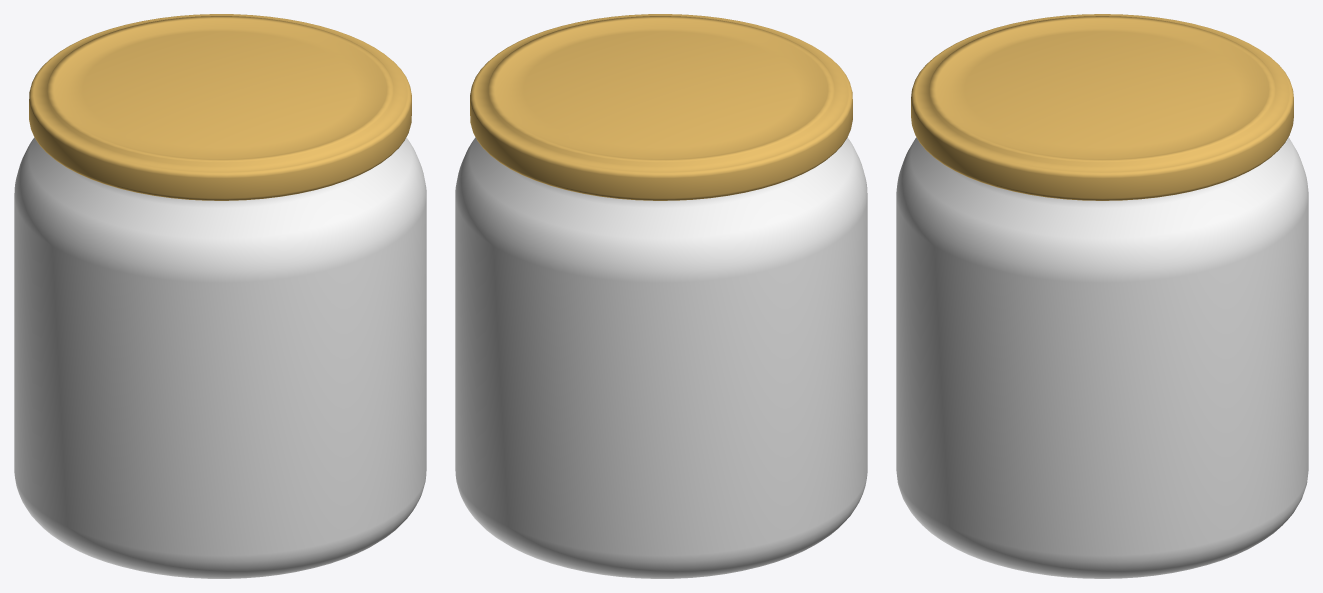
The model's file is miele_dippi_2.glb.
3 renders of one model, left to right at view 1: azimuth 30°, elevation 25°; view 2: azimuth 150°, elevation 25°; view 3: azimuth 270°, elevation 25°, orthographic.
Parts seen in each view (by area): view 1: vetro, tappo; view 2: vetro, tappo; view 3: vetro, tappo.
Part boxes in pixels (box(x1,y1,x2,y2)): vetro: box(14, 137, 426, 578); tappo: box(29, 14, 411, 200); vetro: box(455, 137, 867, 578); tappo: box(470, 14, 852, 200); vetro: box(896, 137, 1308, 578); tappo: box(911, 14, 1293, 200).
Bounding box in the file's own units: 0.08 × 0.0902 × 0.08.
